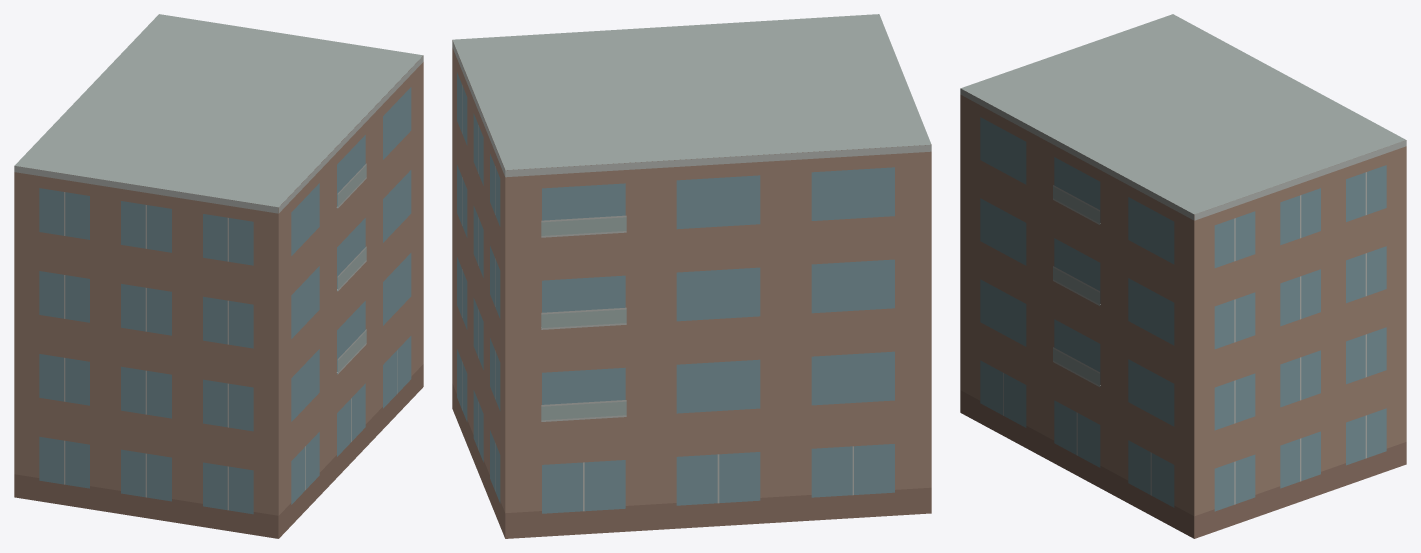
File: survey-upis-33046574.glb
3 views of the same model, side by side, from view 1: azimuth 30°, elevation 25°; view 2: azimuth 150°, elevation 25°; view 3: azimuth 270°, elevation 25° (orthographic). The views are drawn at different scales.
Visible parts, largest first — view 1: survey-upis-33046574.tmp; view 2: survey-upis-33046574.tmp; view 3: survey-upis-33046574.tmp.
Boxes of the visible parts, left/top/right/bottom form: survey-upis-33046574.tmp: left=14, top=14, right=423, bottom=538; survey-upis-33046574.tmp: left=452, top=14, right=931, bottom=538; survey-upis-33046574.tmp: left=960, top=14, right=1406, bottom=538.
Size of the model in its own units: 16.98 by 12.8 by 15.96.
